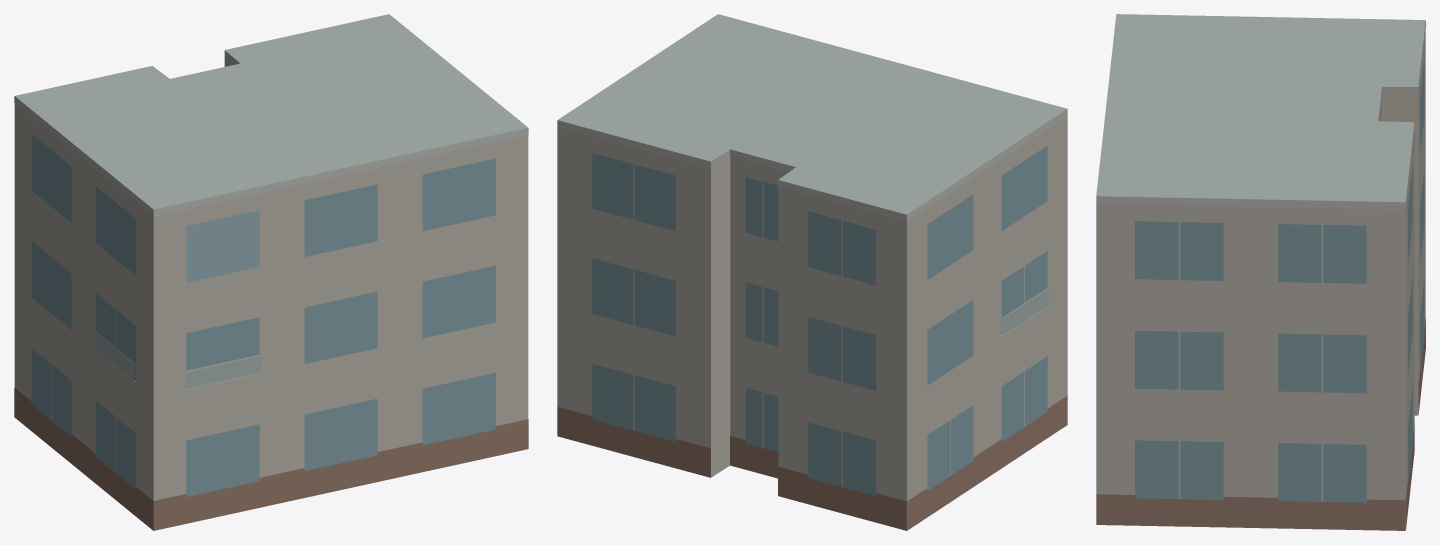
The model's file is survey-upis-32935292.glb.
3 views of the same model, side by side, from view 1: azimuth 30°, elevation 25°; view 2: azimuth 150°, elevation 25°; view 3: azimuth 270°, elevation 25° (orthographic). The views are drawn at different scales.
Parts seen in each view (by area): view 1: survey-upis-32935292.tmp; view 2: survey-upis-32935292.tmp; view 3: survey-upis-32935292.tmp.
Part boxes in pixels (box(x1,y1,x2,y2)): survey-upis-32935292.tmp: box(14, 14, 528, 530); survey-upis-32935292.tmp: box(557, 14, 1067, 530); survey-upis-32935292.tmp: box(1096, 14, 1425, 530).
Bounding box in the file's own units: 13.28 × 10.8 × 9.83.
